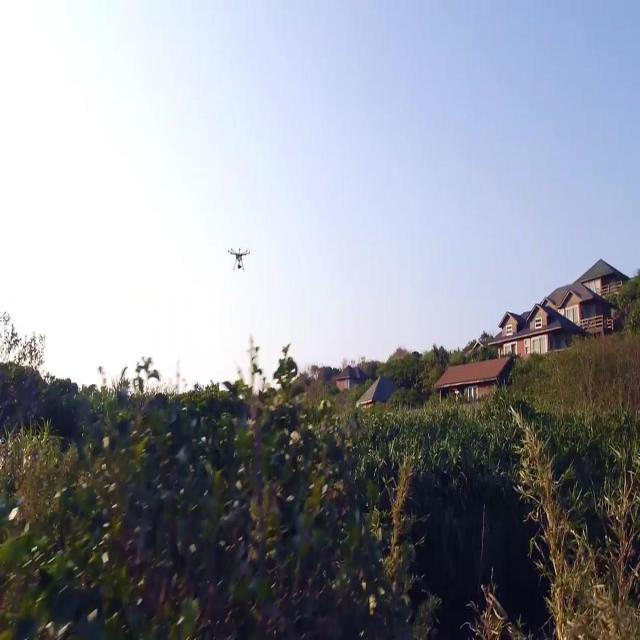UAV: (228, 247, 250, 271)
